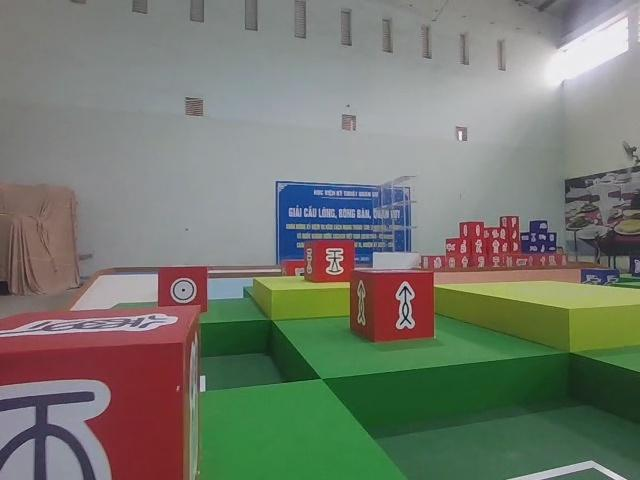R2 Fake: (0, 302, 204, 480)
R2 Real: (348, 273, 435, 344), (156, 265, 208, 315), (305, 239, 355, 284)
